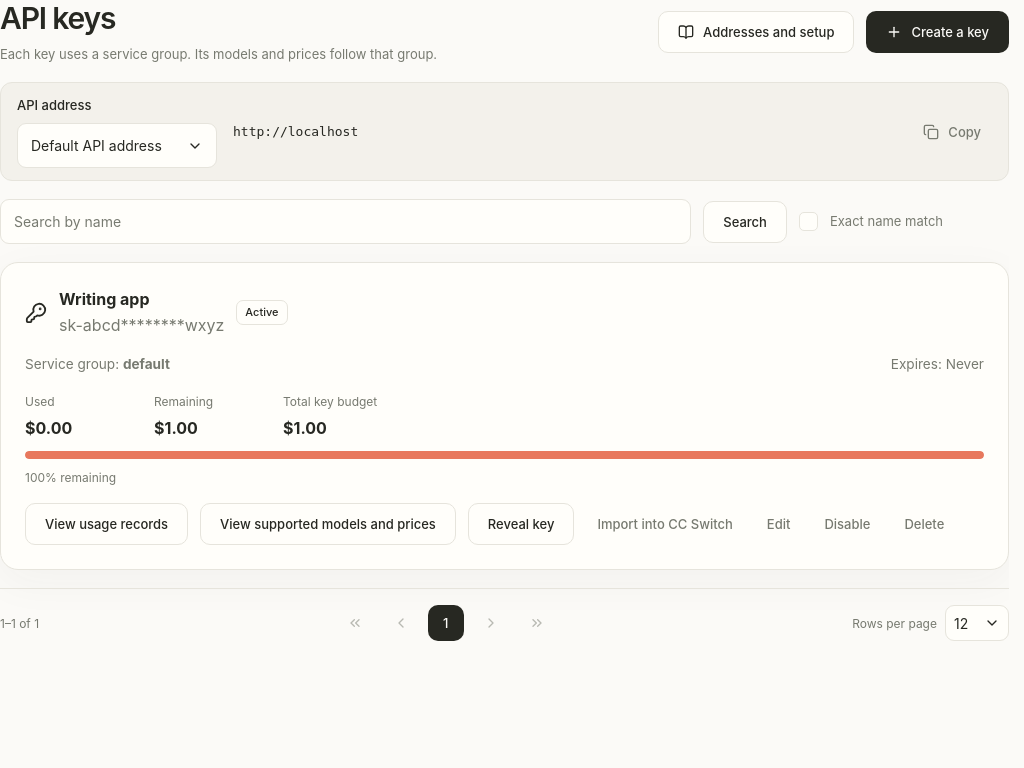
Test: reveals only on explicit POST and clears the displayed secret when the dialog closes
Expected: the text "Writing app" is shown, [59,289,150,309]
Click the button "Reveal key".
click(521, 524)  # box [468,503,574,545]
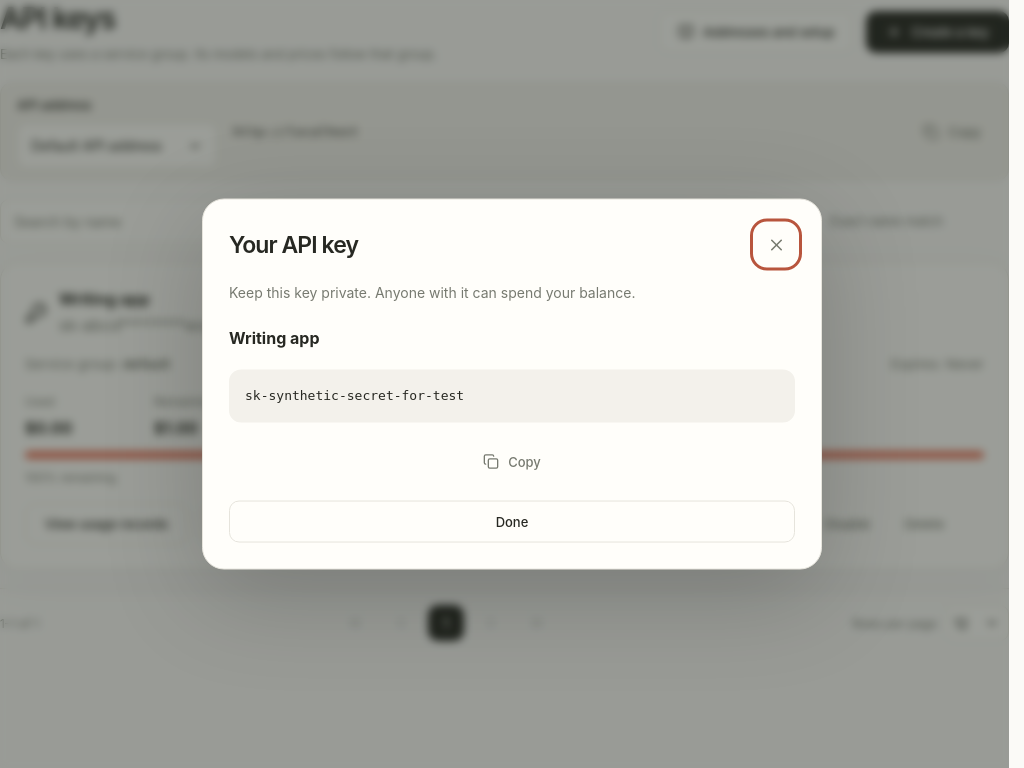
Now the text "sk-synthetic-secret-for-test" is shown, box [229,370,795,422]
Click the button "Done".
click(512, 521)  # box [229,500,795,542]
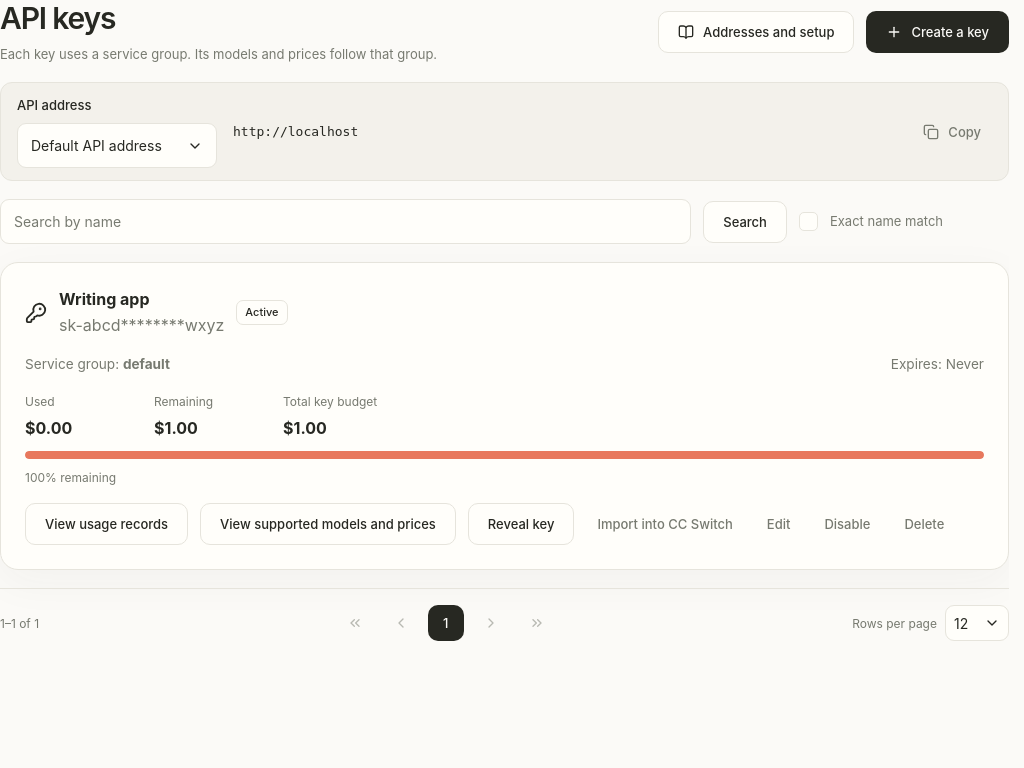
Now the text "sk-synthetic-secret-for-test" is gone
